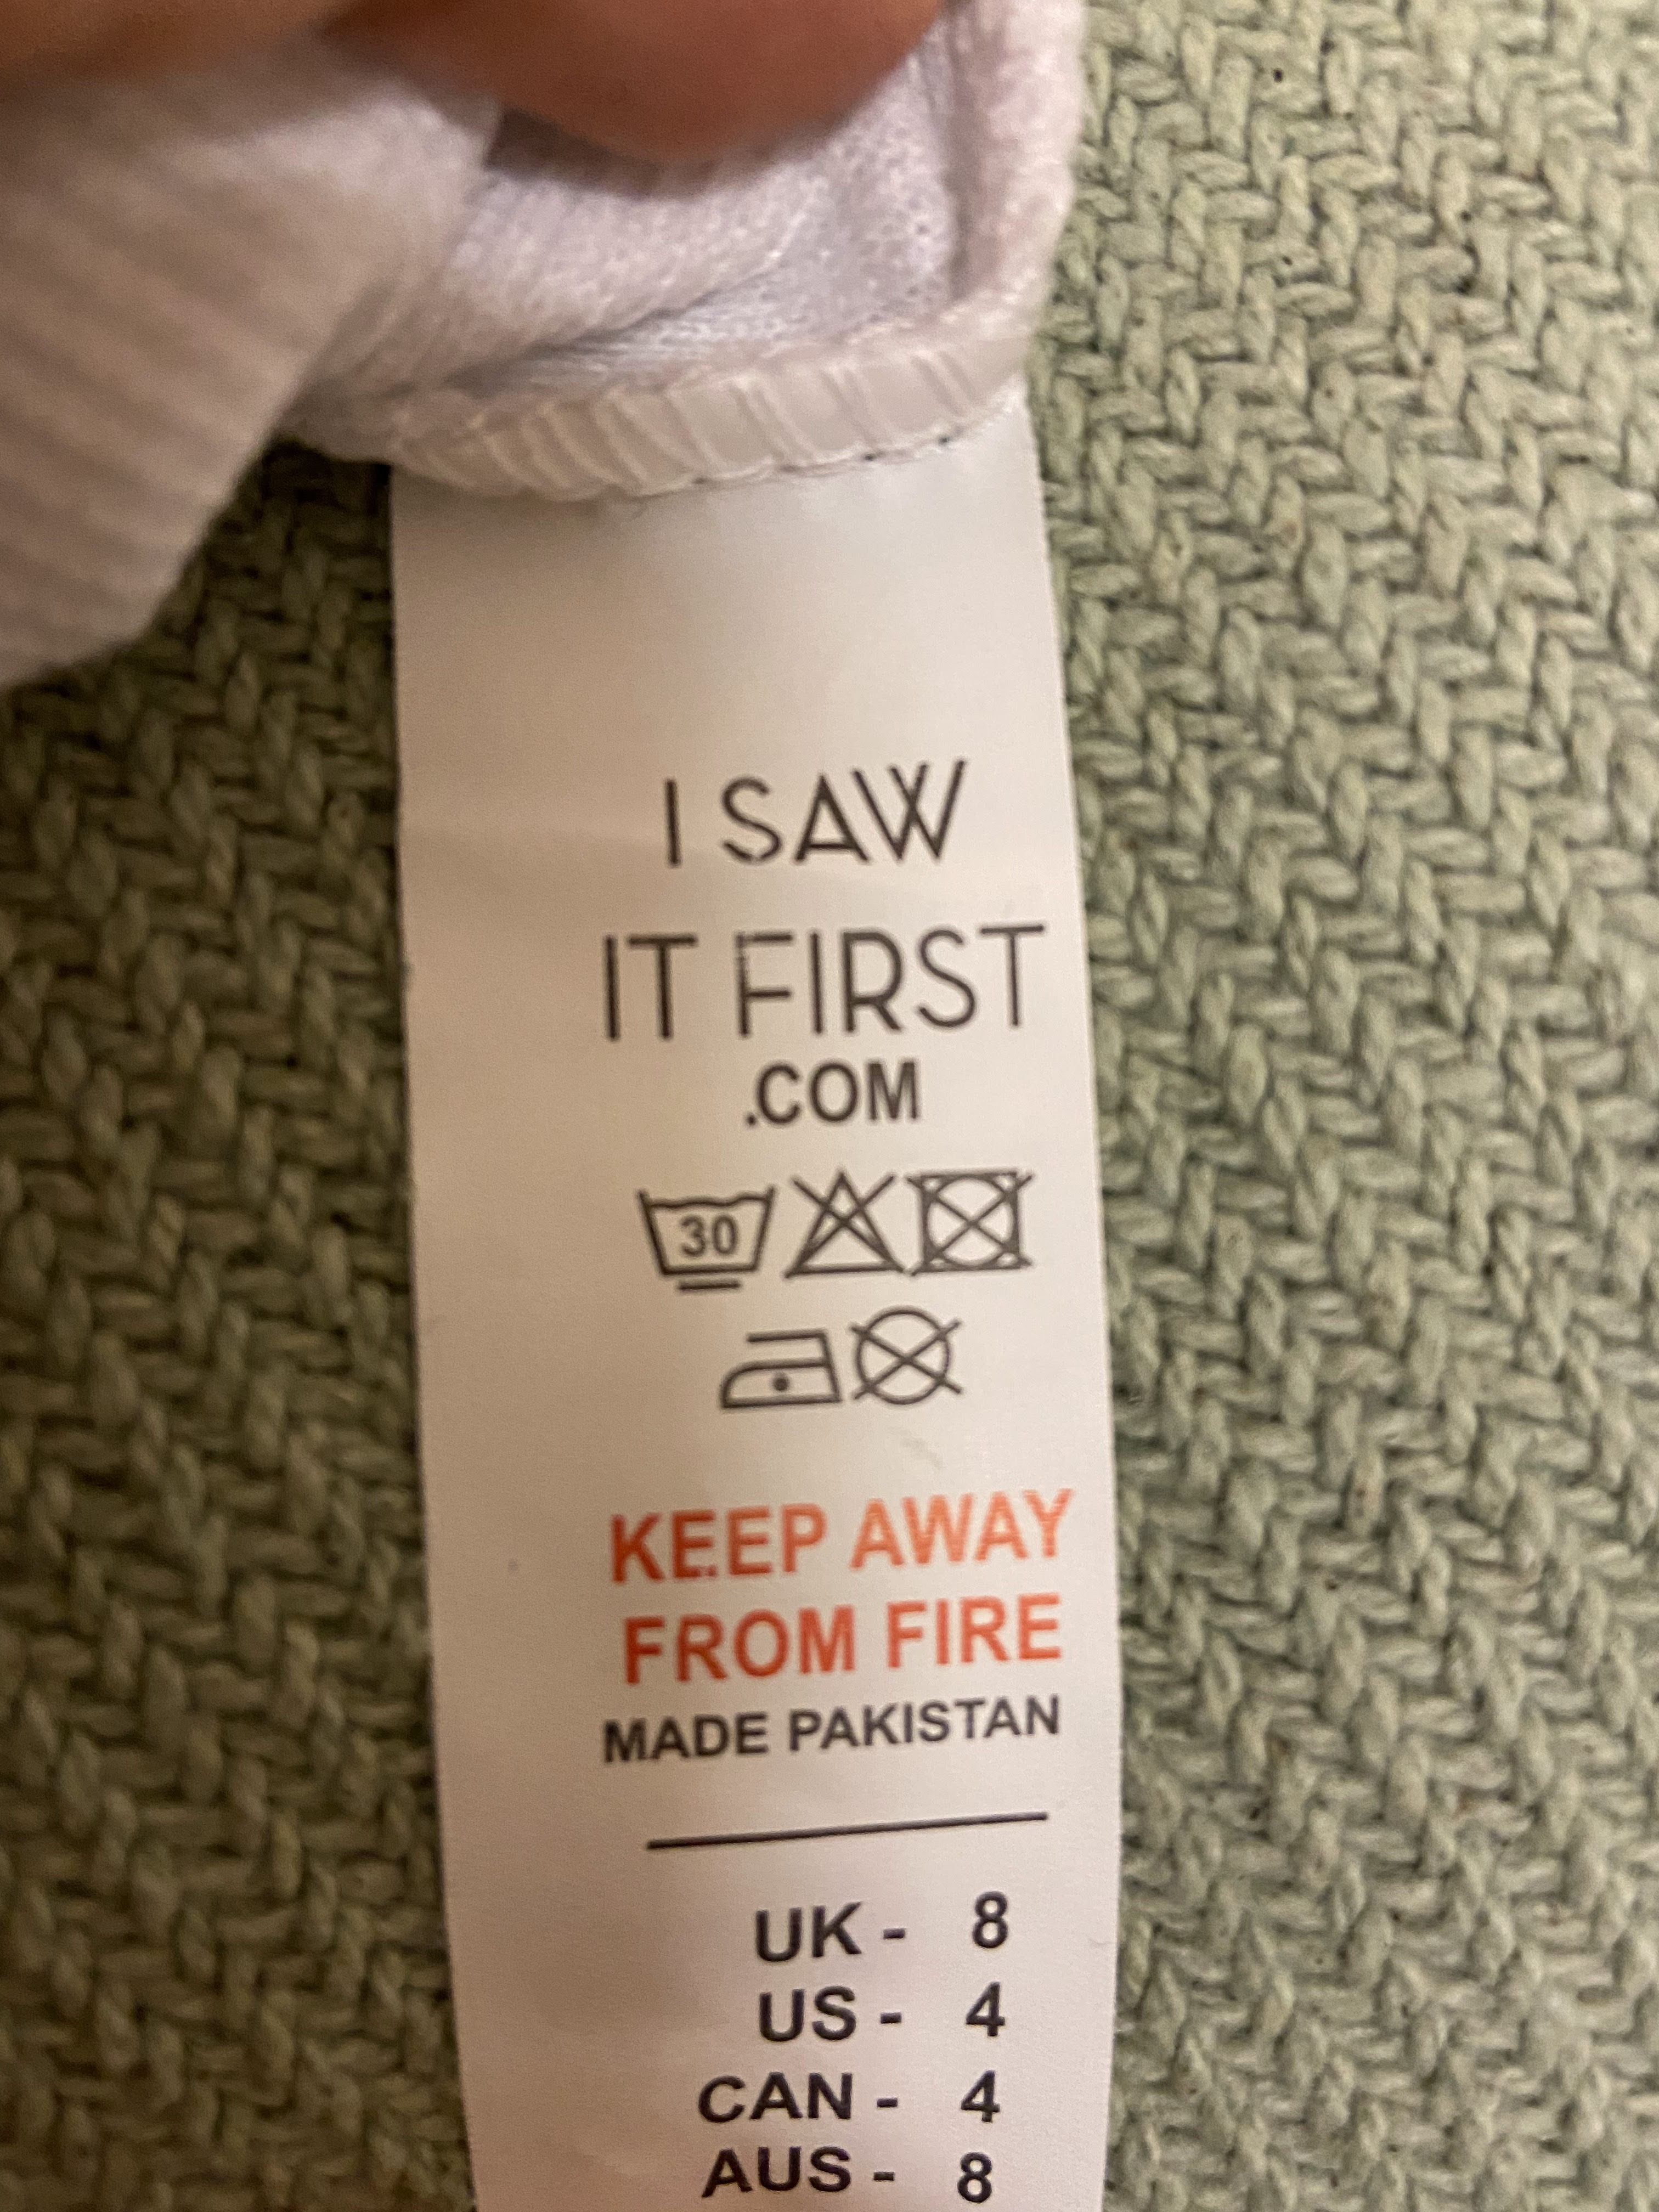do not bleach: (781, 1160, 911, 1289)
do not dry clean: (838, 1291, 985, 1440)
do not tumble dry: (906, 1162, 1058, 1303)
iron low temp: (688, 1313, 847, 1425)
wash at or below 30: (631, 1158, 786, 1313)
